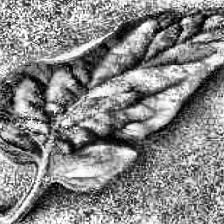leaf mold: (0, 4, 224, 190)
